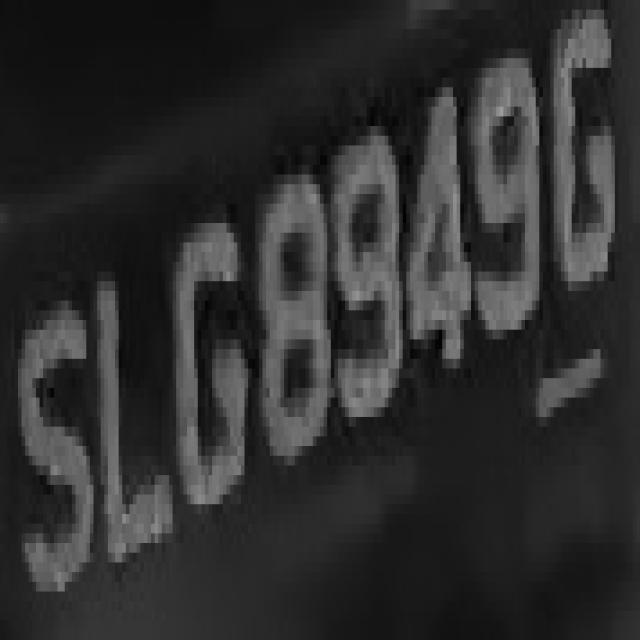4: (385, 58, 478, 398)
8: (262, 155, 334, 475)
9: (327, 116, 414, 446), (468, 58, 558, 349)
G: (162, 194, 252, 543), (543, 29, 629, 330)
L: (90, 281, 176, 582)
S: (14, 281, 90, 621)
